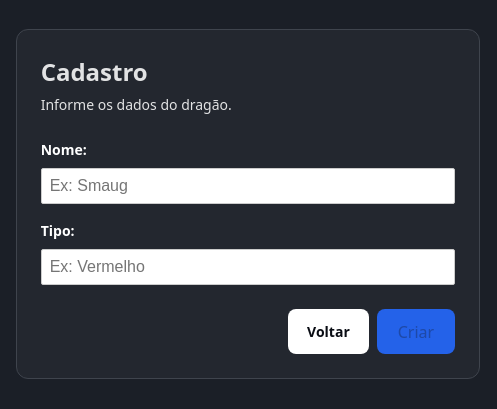
Scenario: DragonForm Component › WHEN submitting the form in create mode › SHOULD display error message if create fails
Type "Draco" into the field labelled "Nome:". click: (248, 186)
box: [41,168,455,204]
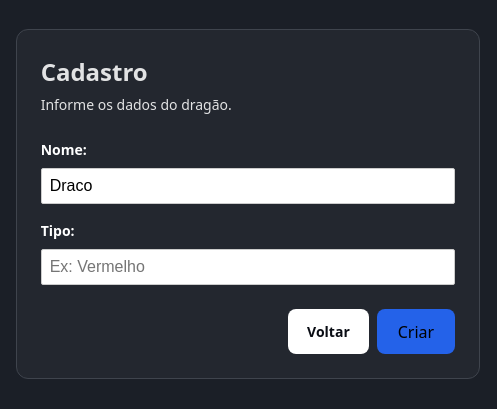
Type "Verde" into the field labelled "Tipo:". click: (248, 267)
box: [41,249,455,285]
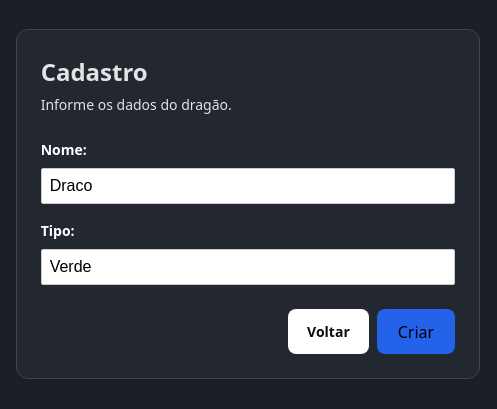
Click the button "Criar". click: (416, 332)
box: [376,309,455,354]
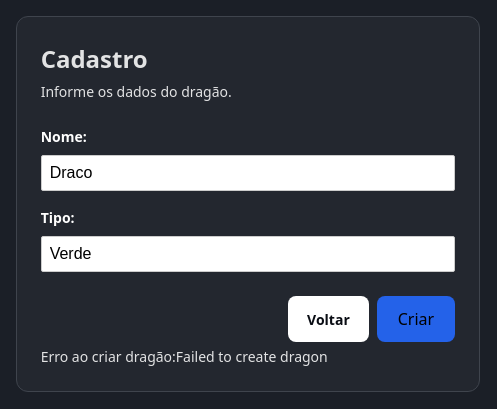
Expected: the text "Erro ao criar dragão:Failed to create dragon" is shown, [41,347,328,366]
